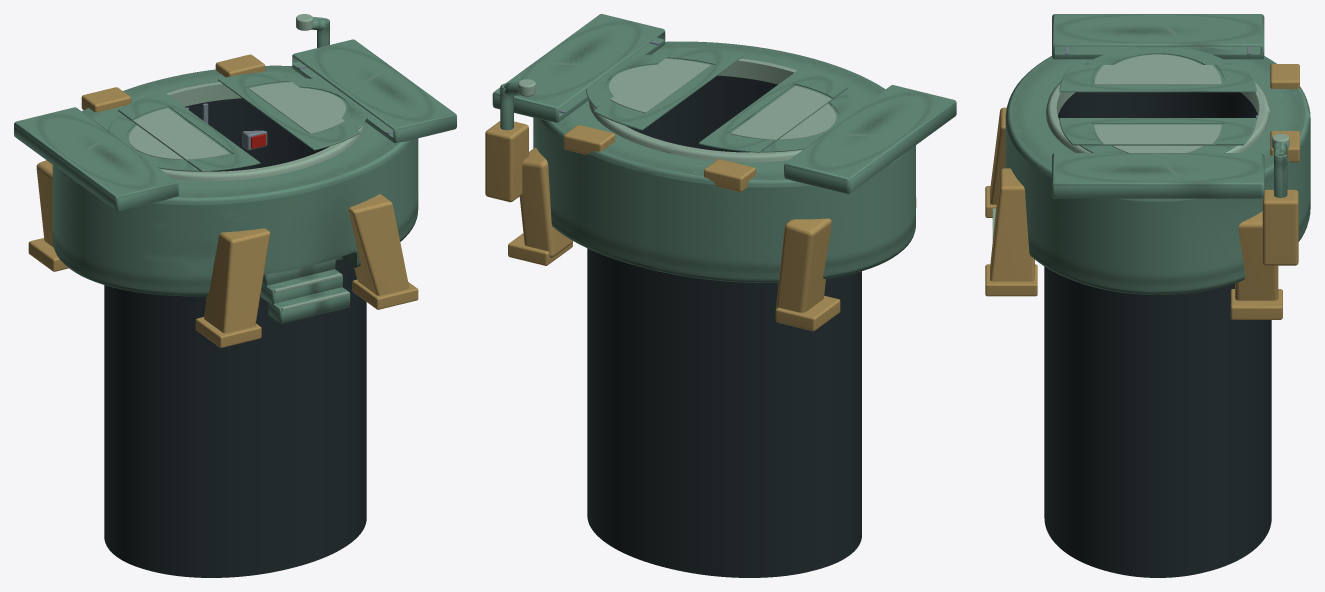
Rendered from descriptor-05.glb.
The picture shows the model from 3 angles, left to right: view 1: azimuth 30°, elevation 25°; view 2: azimuth 150°, elevation 25°; view 3: azimuth 270°, elevation 25°; orthographic projection. The views are drawn at different scales.
Visible parts, largest first — view 1: RI10 shaft wall below ground, RI10 fixed oval body, RI10 enclosed side cover cassette, RI10 enclosed side cover cassette.001, RI10 front splayed brass buttress, RI10 front splayed brass buttress.001, RI10 green aperture coaming, RI10 left cover shell inner segment, RI10 right cover shell inner segment, RI10 recessed green cover field inner segment, RI10 recessed green cover field inner segment.001, RI10 front access step 0 (+12 smaller); view 2: RI10 shaft wall below ground, RI10 fixed oval body, RI10 enclosed side cover cassette, RI10 enclosed side cover cassette.001, RI10 rear brass load-bearing buttress, RI10 green aperture coaming, RI10 rear brass load-bearing buttress.001, RI10 left cover shell inner segment, RI10 right equipment mast foundation, RI10 right cover shell inner segment, RI10 recessed green cover field inner segment, RI10 recessed green cover field inner segment.001 (+8 smaller); view 3: RI10 shaft wall below ground, RI10 fixed oval body, RI10 enclosed side cover cassette.001, RI10 enclosed side cover cassette, RI10 front splayed brass buttress.001, RI10 left cover shell inner segment, RI10 right cover shell inner segment, RI10 right equipment mast foundation, RI10 recessed green cover field inner segment.001, RI10 rear brass load-bearing buttress.001, RI10 recessed green cover field inner segment, RI10 green aperture coaming (+10 smaller).
Part boxes in pixels (x1,y1,x2,y2): RI10 shaft wall below ground: [104, 98, 366, 577]; RI10 fixed oval body: [52, 65, 418, 296]; RI10 enclosed side cover cassette: [14, 107, 178, 211]; RI10 enclosed side cover cassette.001: [292, 39, 456, 142]; RI10 front splayed brass buttress: [204, 228, 270, 333]; RI10 front splayed brass buttress.001: [348, 194, 409, 295]; RI10 green aperture coaming: [160, 81, 365, 181]; RI10 left cover shell inner segment: [118, 92, 260, 171]; RI10 right cover shell inner segment: [218, 71, 360, 150]; RI10 recessed green cover field inner segment: [133, 108, 229, 160]; RI10 recessed green cover field inner segment.001: [248, 82, 344, 134]; RI10 front access step 0: [268, 287, 350, 323]; RI10 shaft wall below ground: [587, 75, 861, 577]; RI10 fixed oval body: [533, 41, 915, 282]; RI10 enclosed side cover cassette: [784, 85, 956, 193]; RI10 enclosed side cover cassette.001: [492, 14, 665, 122]; RI10 rear brass load-bearing buttress: [776, 218, 831, 312]; RI10 green aperture coaming: [589, 58, 803, 162]; RI10 rear brass load-bearing buttress.001: [519, 147, 572, 257]; RI10 left cover shell inner segment: [698, 69, 847, 152]; RI10 right equipment mast foundation: [485, 121, 528, 202]; RI10 right cover shell inner segment: [594, 47, 742, 130]; RI10 recessed green cover field inner segment: [730, 86, 831, 140]; RI10 recessed green cover field inner segment.001: [610, 58, 710, 113]; RI10 shaft wall below ground: [1044, 92, 1271, 577]; RI10 fixed oval body: [1005, 56, 1310, 294]; RI10 enclosed side cover cassette.001: [1052, 153, 1264, 198]; RI10 enclosed side cover cassette: [1052, 14, 1264, 59]; RI10 front splayed brass buttress.001: [990, 168, 1034, 281]; RI10 left cover shell inner segment: [1059, 64, 1256, 92]; RI10 right cover shell inner segment: [1059, 118, 1256, 145]; RI10 right equipment mast foundation: [1262, 189, 1298, 265]; RI10 recessed green cover field inner segment.001: [1094, 124, 1221, 144]; RI10 rear brass load-bearing buttress.001: [1235, 211, 1278, 300]; RI10 recessed green cover field inner segment: [1094, 65, 1221, 84]; RI10 green aperture coaming: [1046, 81, 1270, 152].
Size of the model in its own units: 2.7 by 3.31 by 2.17.
Materials: 7 (2 with a texture image).
